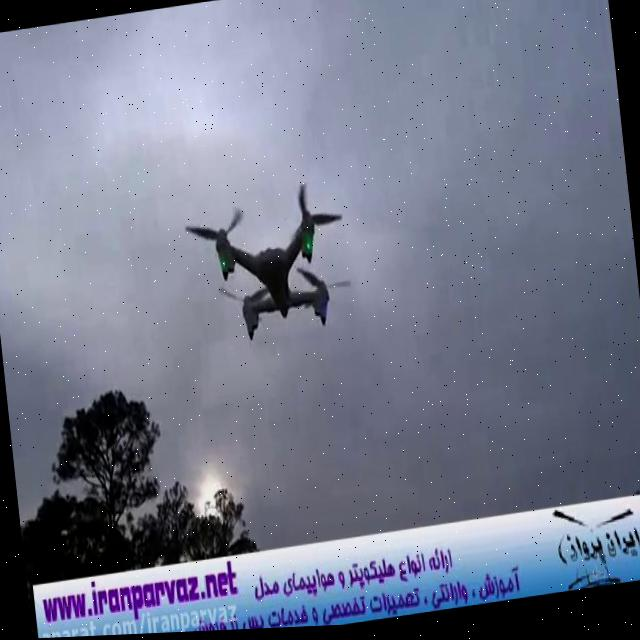drone: (180, 177, 356, 352)
